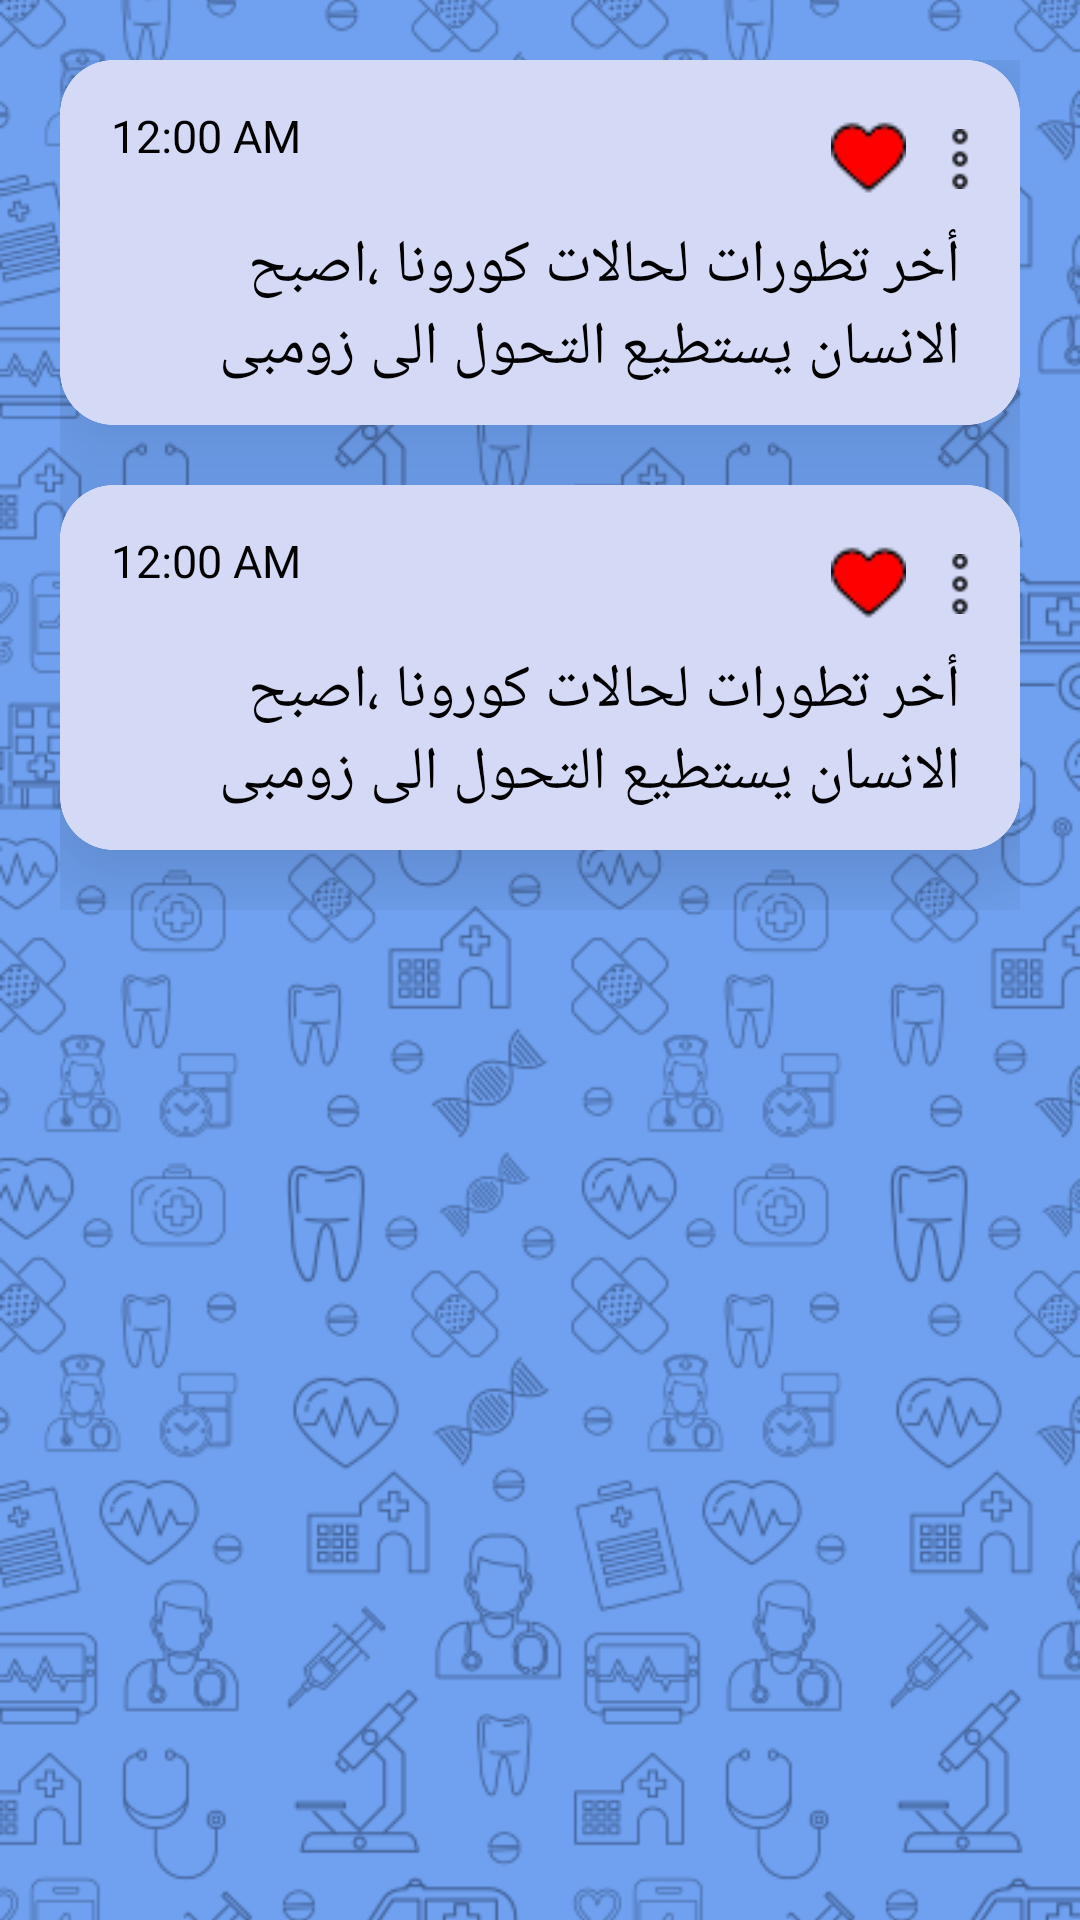

Locate icon controls on the screen. Image size 1080×1920, boxes as (x1, y1, x2, y2).
heart: (831, 122, 906, 193), (831, 547, 906, 618)
more: (952, 129, 968, 189), (952, 554, 968, 614)
